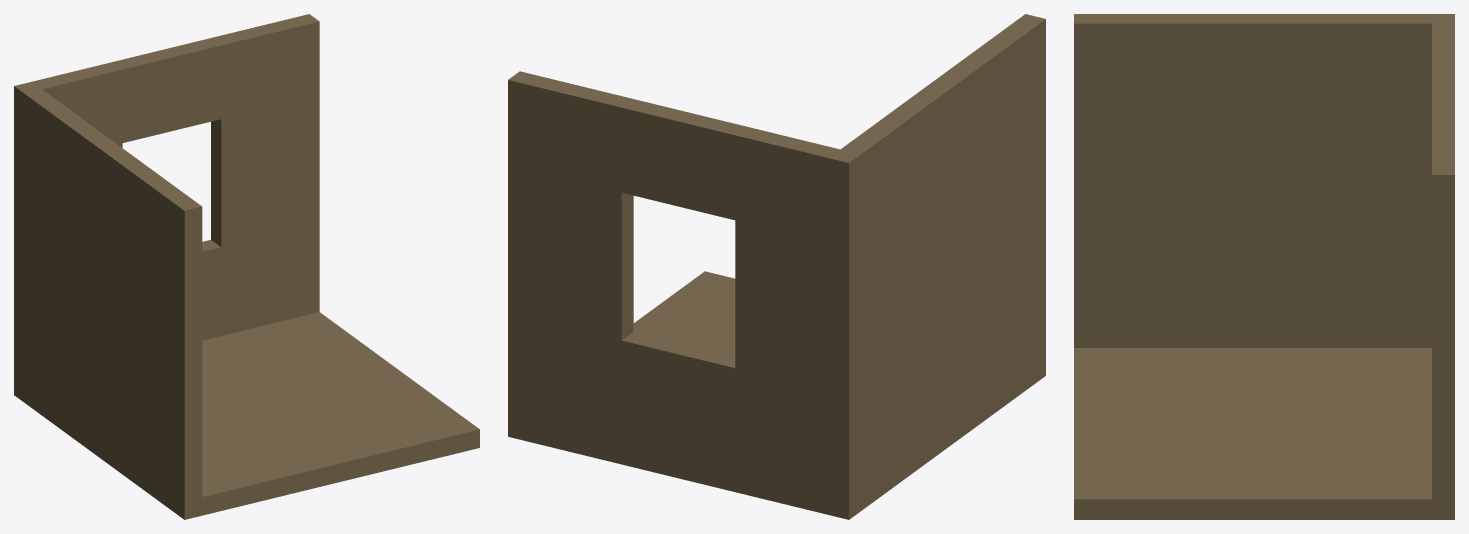
Rendered from fbxroom2forgametesting.fbx.
3 renders of one model, left to right at view 1: azimuth 30°, elevation 25°; view 2: azimuth 150°, elevation 25°; view 3: azimuth 270°, elevation 25°, orthographic. The views are drawn at different scales.
Visible parts, largest first — view 1: Cube; view 2: Cube; view 3: Cube.
Part boxes in pixels (x1,y1,x2,y2): Cube: (14,14,479,519); Cube: (508,14,1045,519); Cube: (1074,14,1454,519).
Bounding box in the file's own units: 200 × 200 × 200.
